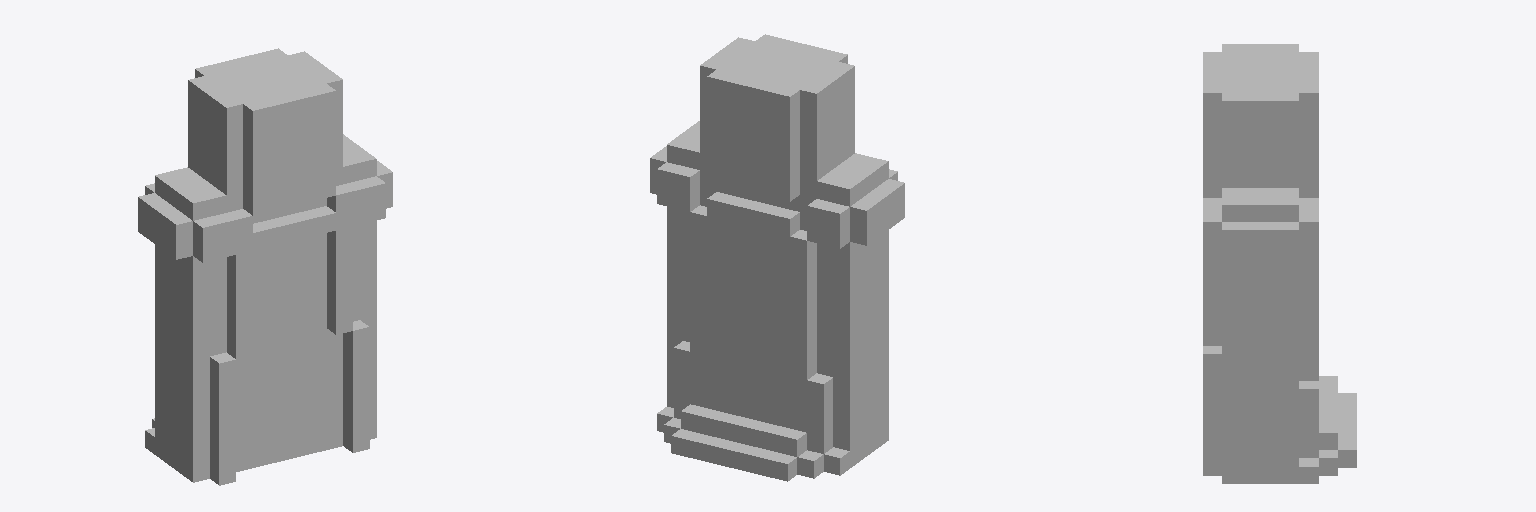
The model's file is IDLE 2.obj.
3 renders of one model, left to right at view 1: azimuth 30°, elevation 25°; view 2: azimuth 150°, elevation 25°; view 3: azimuth 270°, elevation 25°, orthographic.
Bounding box in the file's own units: 13 × 21 × 8.